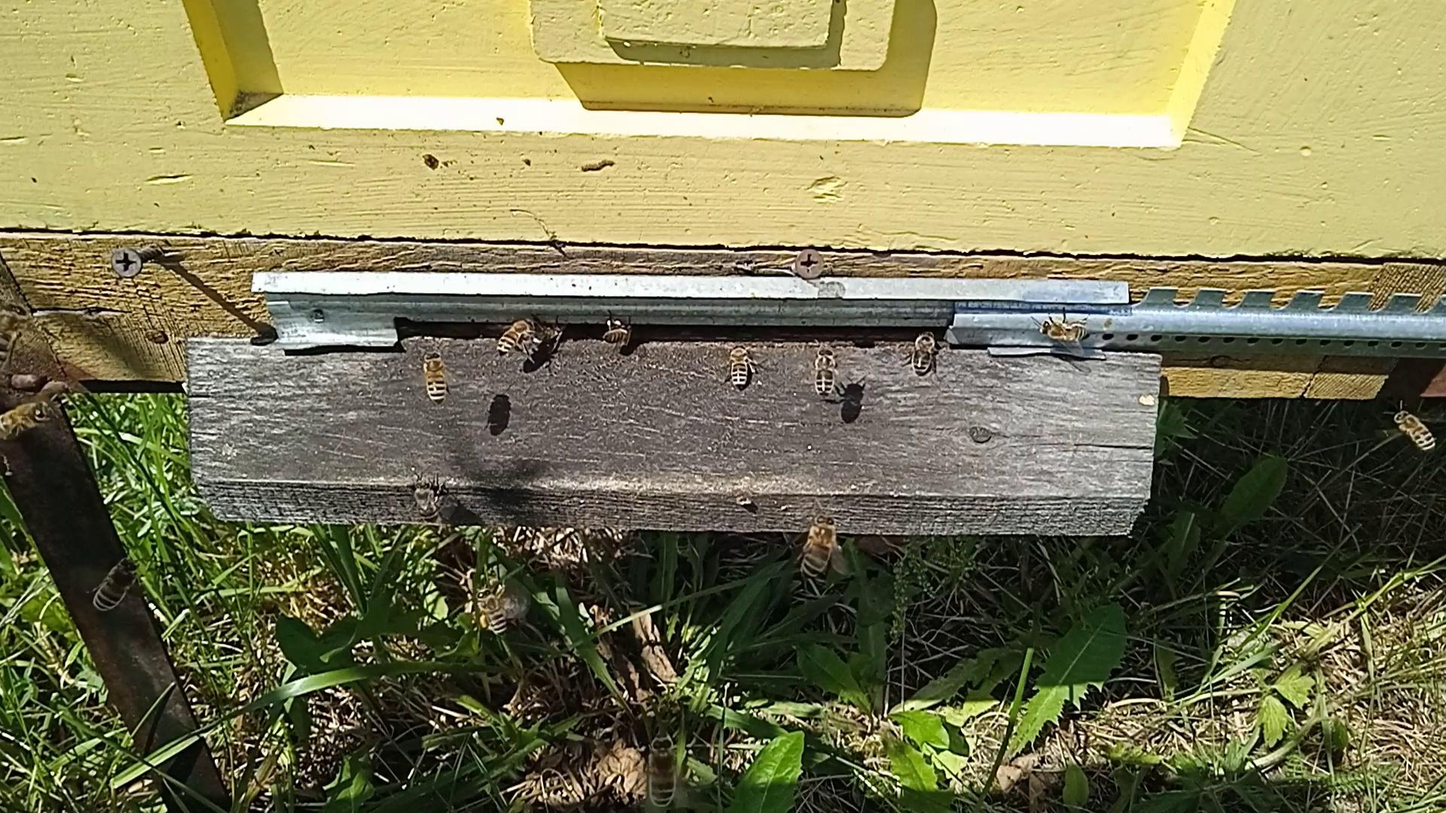worker-bee: (90, 557, 139, 613), (645, 736, 680, 811), (800, 514, 839, 579), (1, 400, 53, 442), (1393, 410, 1437, 452), (1, 303, 28, 369), (474, 586, 509, 636), (421, 349, 450, 405), (811, 346, 841, 400), (1038, 316, 1090, 346), (410, 478, 445, 520), (496, 319, 533, 358), (726, 343, 756, 391), (908, 330, 939, 376), (601, 314, 636, 349), (533, 324, 566, 350), (674, 531, 692, 556)
